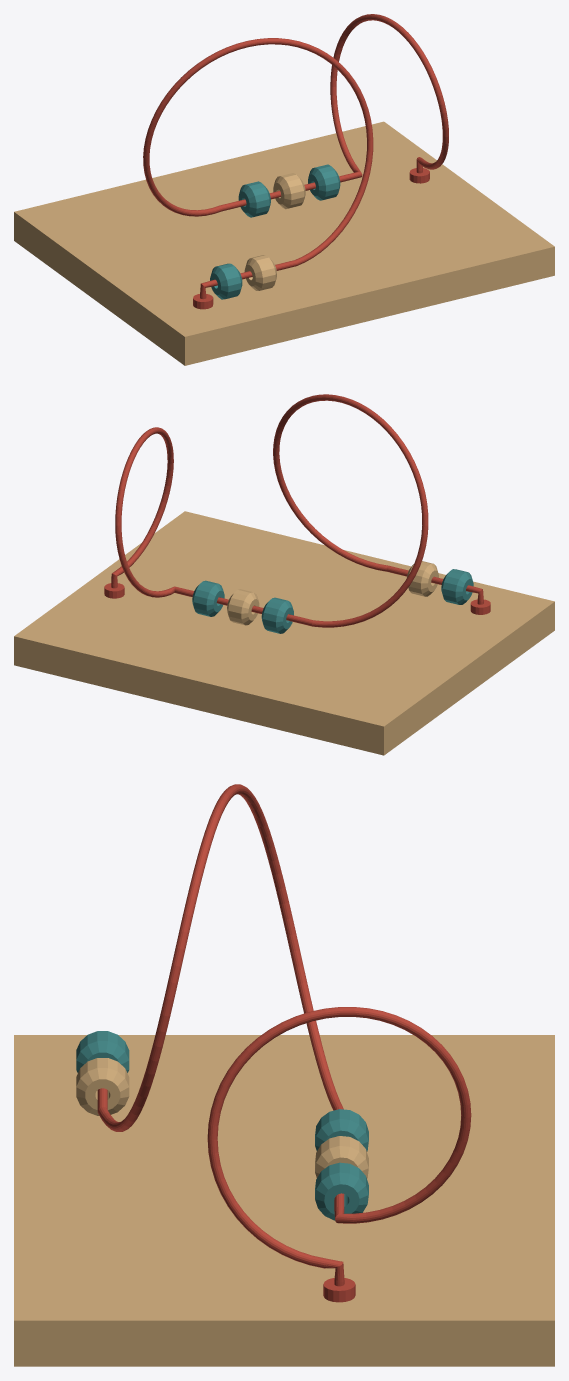
The picture shows the model from 3 angles, top to bottom: view 1: azimuth 30°, elevation 25°; view 2: azimuth 150°, elevation 25°; view 3: azimuth 270°, elevation 25°; orthographic projection. The views are drawn at different scales.
Parts seen in each view (by area): view 1: WholeGroundFootWoodBase, WholeContinuousOrthogonalLoopWire, WholeCapturedBoredBarrelBead_0, WholeCapturedBoredBarrelBead_2, WholeCapturedBoredBarrelBead_3, WholeCapturedBoredBarrelBead_1, WholeCapturedBoredBarrelBead_4; view 2: WholeGroundFootWoodBase, WholeContinuousOrthogonalLoopWire, WholeCapturedBoredBarrelBead_3, WholeCapturedBoredBarrelBead_4, WholeCapturedBoredBarrelBead_2, WholeCapturedBoredBarrelBead_0, WholeCapturedBoredBarrelBead_1; view 3: WholeGroundFootWoodBase, WholeContinuousOrthogonalLoopWire, WholeCapturedBoredBarrelBead_1, WholeCapturedBoredBarrelBead_4, WholeCapturedBoredBarrelBead_3, WholeCapturedBoredBarrelBead_0, WholeCapturedBoredBarrelBead_2.
Part boxes in pixels (x1=…): WholeGroundFootWoodBase: x1=14, y1=121, x2=554, y2=365; WholeContinuousOrthogonalLoopWire: x1=143, y1=14, x2=448, y2=299; WholeCapturedBoredBarrelBead_0: x1=210, y1=263, x2=242, y2=299; WholeCapturedBoredBarrelBead_2: x1=238, y1=181, x2=270, y2=217; WholeCapturedBoredBarrelBead_3: x1=273, y1=173, x2=305, y2=209; WholeCapturedBoredBarrelBead_1: x1=244, y1=255, x2=276, y2=290; WholeCapturedBoredBarrelBead_4: x1=308, y1=164, x2=340, y2=200; WholeGroundFootWoodBase: x1=14, y1=511, x2=554, y2=755; WholeContinuousOrthogonalLoopWire: x1=111, y1=394, x2=483, y2=627; WholeCapturedBoredBarrelBead_3: x1=227, y1=589, x2=259, y2=625; WholeCapturedBoredBarrelBead_4: x1=192, y1=580, x2=224, y2=616; WholeCapturedBoredBarrelBead_2: x1=261, y1=597, x2=293, y2=633; WholeCapturedBoredBarrelBead_0: x1=441, y1=569, x2=473, y2=604; WholeCapturedBoredBarrelBead_1: x1=407, y1=561, x2=438, y2=596; WholeGroundFootWoodBase: x1=14, y1=1035, x2=554, y2=1366; WholeContinuousOrthogonalLoopWire: x1=97, y1=784, x2=471, y2=1286; WholeCapturedBoredBarrelBead_1: x1=76, y1=1058, x2=129, y2=1115; WholeCapturedBoredBarrelBead_4: x1=315, y1=1162, x2=368, y2=1220; WholeCapturedBoredBarrelBead_3: x1=315, y1=1136, x2=368, y2=1178; WholeCapturedBoredBarrelBead_0: x1=76, y1=1031, x2=129, y2=1072; WholeCapturedBoredBarrelBead_2: x1=315, y1=1109, x2=368, y2=1151.
Bounding box in the file's own units: 0.8 × 0.5059 × 0.64.
